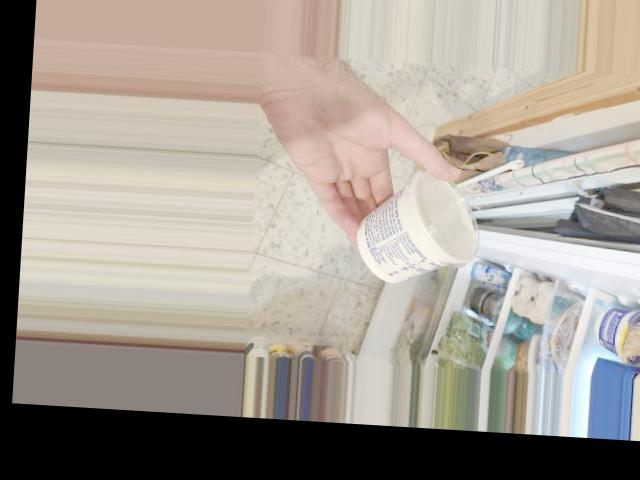cotage: (364, 162, 483, 284)
